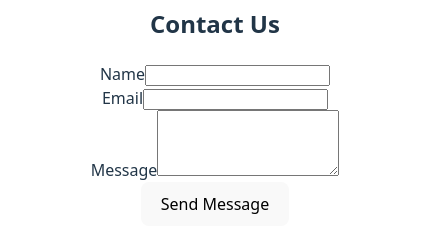
Test: ContactForm Component › clears validation errors when user starts typing in error fields
Note: Submit empty form to trigger errors
Click the button with test id "submit-button" at coordinates (215, 204), box [141, 182, 289, 226]
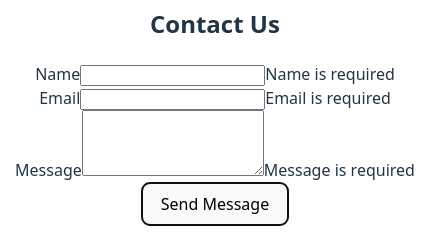
Expected: the text "Name is required" is shown, [265, 63, 395, 85]
Note: Start typing in name field
Type "J" into the field with test id "name-input" at coordinates (173, 76), box [80, 65, 265, 86]
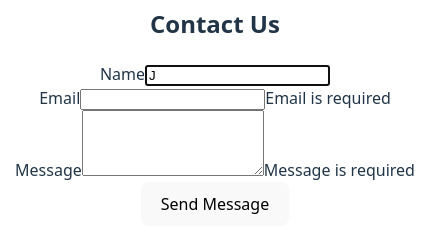
Expected: the text with test id "name-error" is gone
